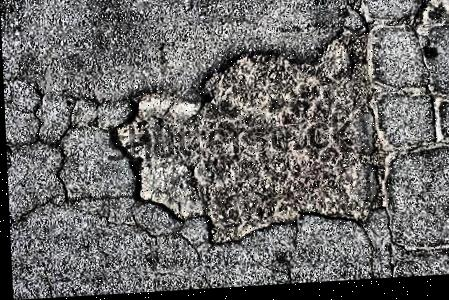pothole: (103, 42, 386, 254)
